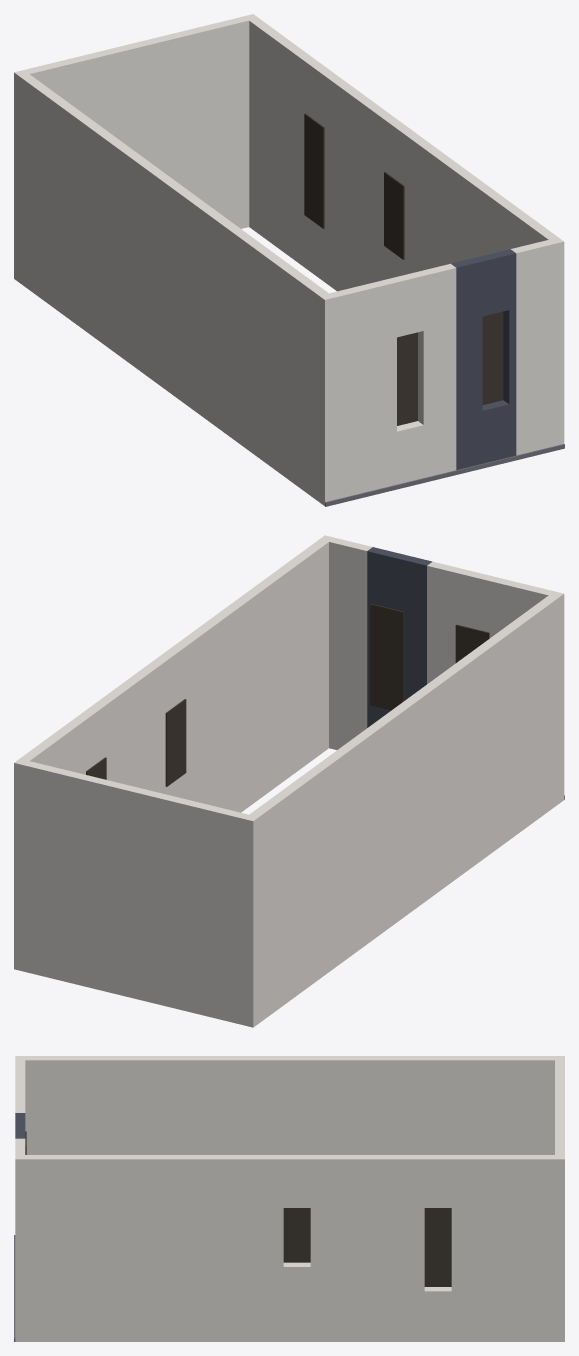
Rendered from SM_Floor_NarrowUpperScatterLowEndR_White_364_01.gltf.
The picture shows the model from 3 angles, top to bottom: view 1: azimuth 30°, elevation 25°; view 2: azimuth 150°, elevation 25°; view 3: azimuth 270°, elevation 25°; orthographic projection. The views are drawn at different scales.
Parts seen in each view (by area): view 1: SM_Floor_NarrowUpperScatterLowEndR_White_364_01; view 2: SM_Floor_NarrowUpperScatterLowEndR_White_364_01; view 3: SM_Floor_NarrowUpperScatterLowEndR_White_364_01.
Boxes of the visible parts, bbox=[...] form: SM_Floor_NarrowUpperScatterLowEndR_White_364_01: bbox=[14, 14, 564, 506]; SM_Floor_NarrowUpperScatterLowEndR_White_364_01: bbox=[14, 535, 564, 1027]; SM_Floor_NarrowUpperScatterLowEndR_White_364_01: bbox=[14, 1056, 564, 1341].
Size of the model in its own units: 3.64 by 3 by 8.21.
1 material, 1 textured.
